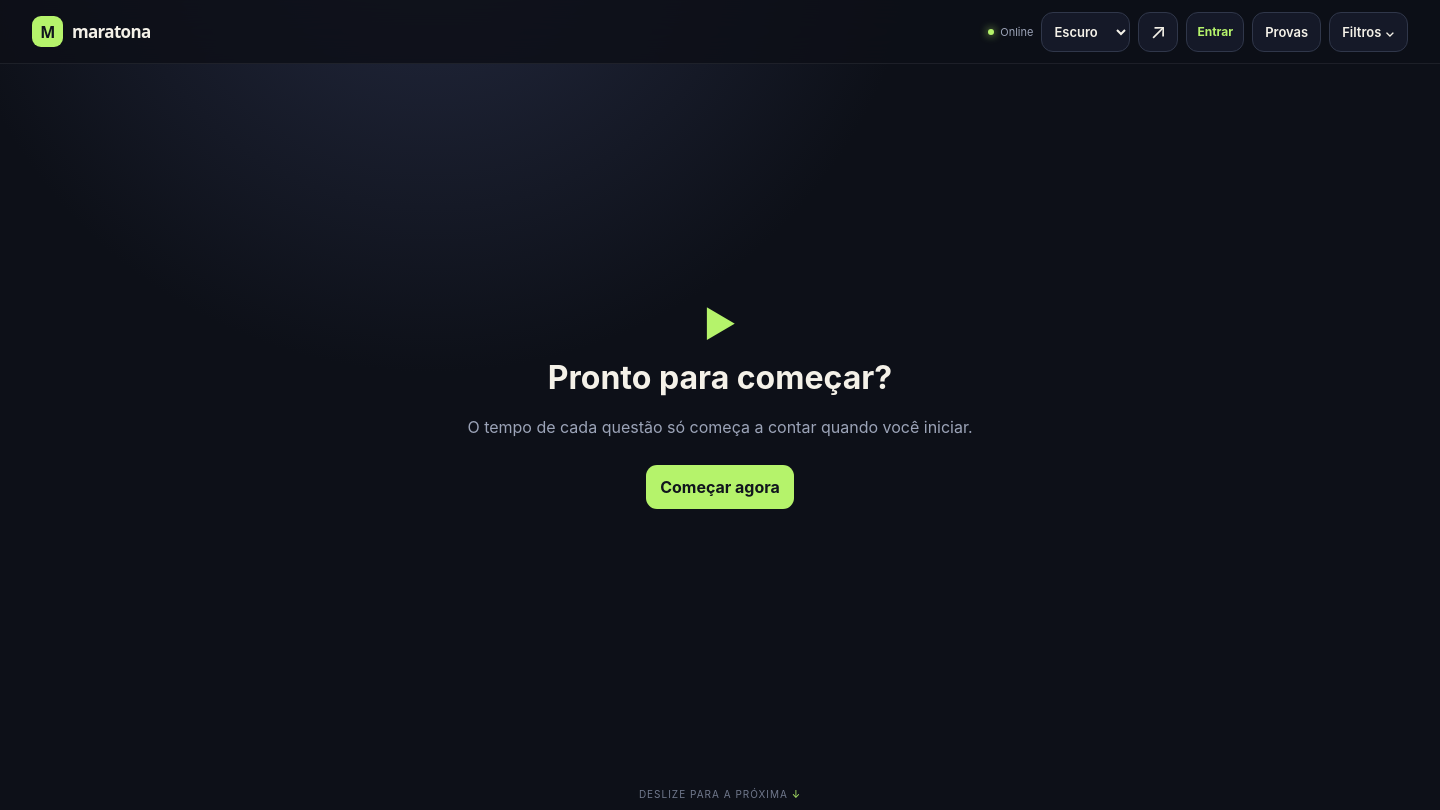
Scenario: active edition feed › hides the feed and starts no timer until Começar agora is acionado
Expected: the text "Matemática da edição 2023" is not shown
Click the button "Começar agora" at (720,486), box [646,464,794,508]
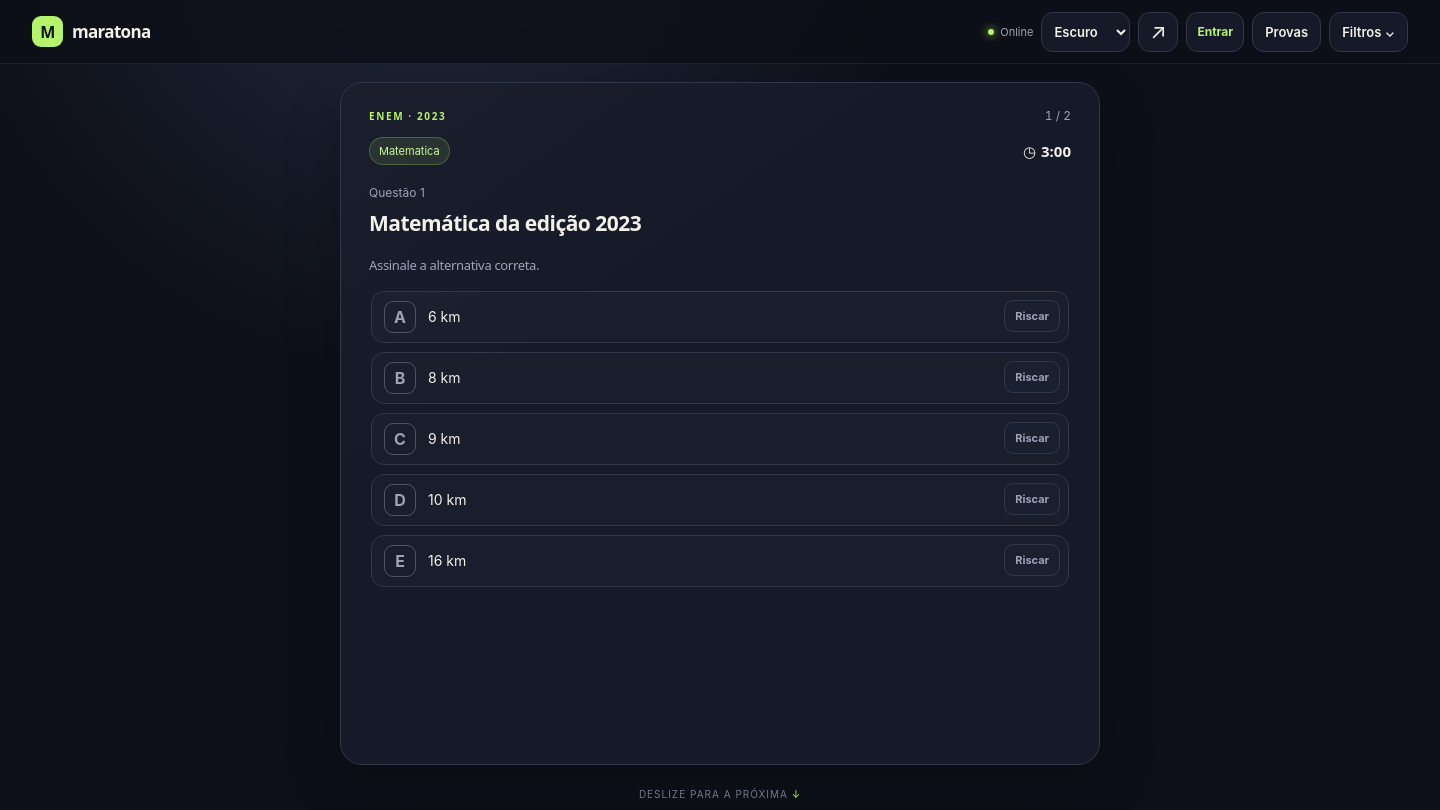
Expected: the text "Matemática da edição 2023" is shown, [369,209,641,237]
Expected: the element showing "◷ 3:00" is shown, [1023,144,1071,158]
